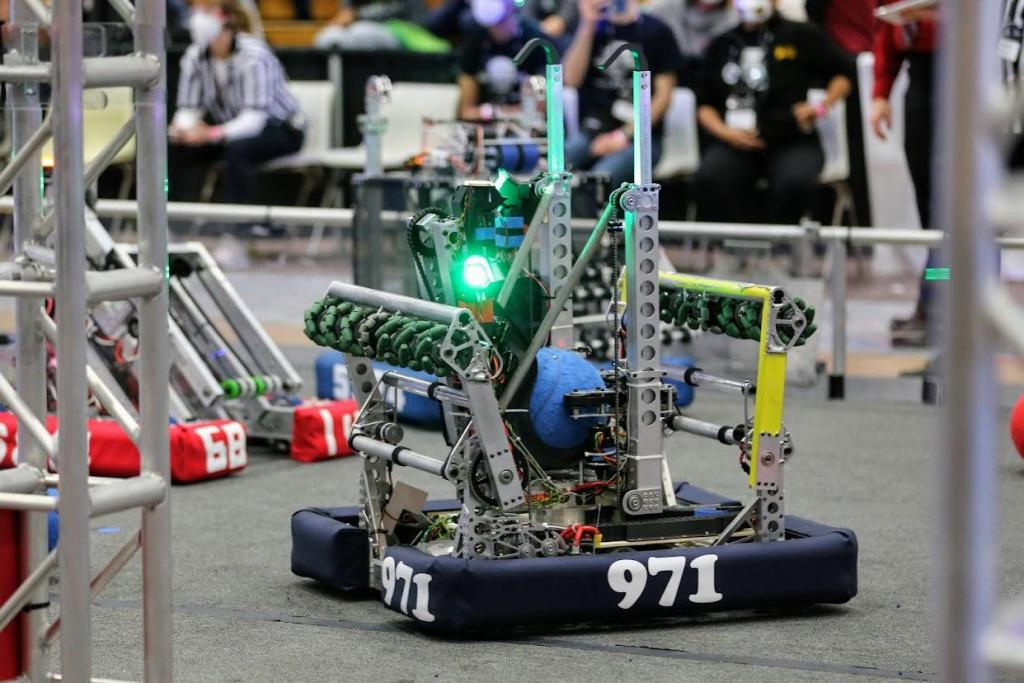robot: (289, 31, 866, 641), (301, 129, 719, 432), (0, 158, 379, 488)
